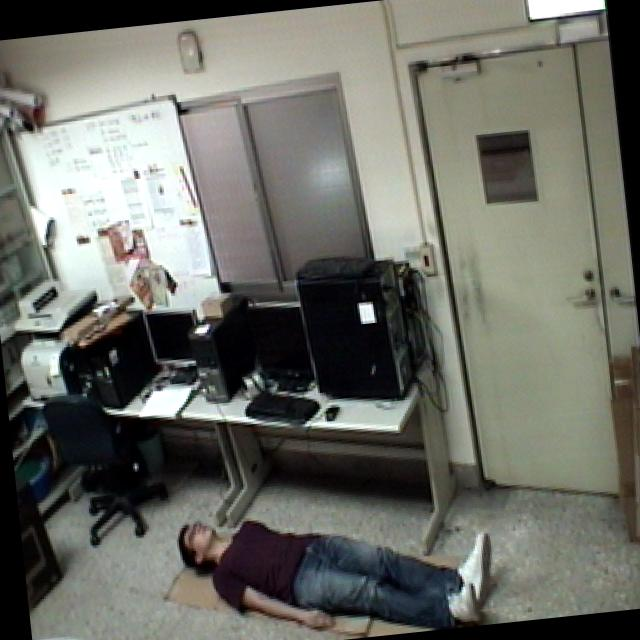lie: (163, 479, 506, 640)
